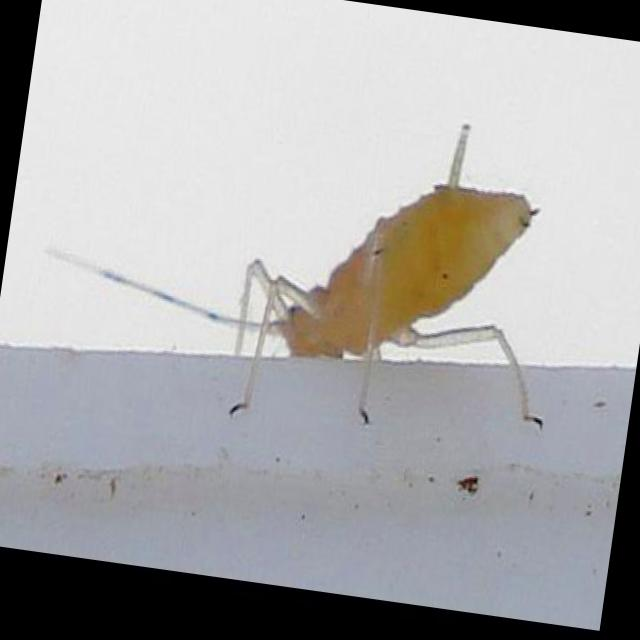Aphids: (61, 59, 582, 510)
